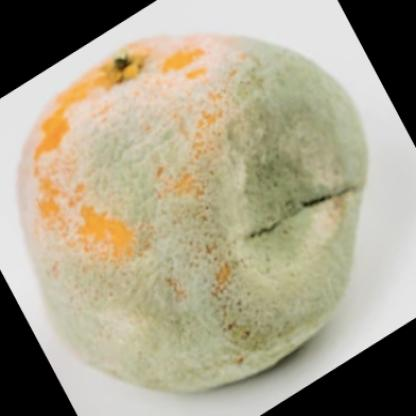rotten: (16, 32, 368, 395)
